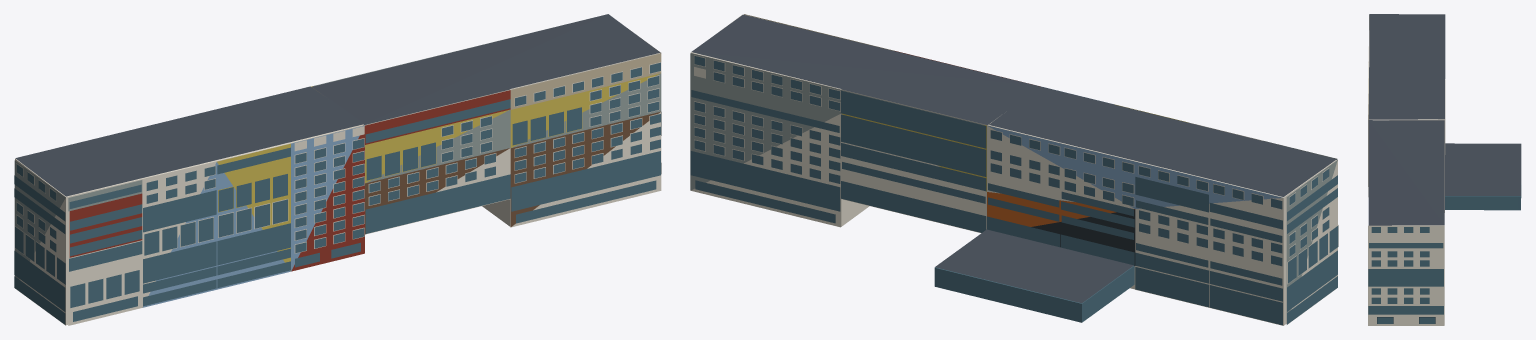
Rendered from silodam.lod2.glb.
The picture shows the model from 3 angles, left to right: view 1: azimuth 30°, elevation 25°; view 2: azimuth 150°, elevation 25°; view 3: azimuth 270°, elevation 25°; orthographic projection. The views are drawn at different scales.
Parts seen in each view (by area): view 1: lod2; view 2: lod2; view 3: lod2.
Part boxes in pixels (x1,y1,x2,y2): lod2: [14, 14, 661, 325]; lod2: [690, 14, 1338, 325]; lod2: [1368, 14, 1521, 325].
Size of the model in its own units: 132 by 29.14 by 40.55.
